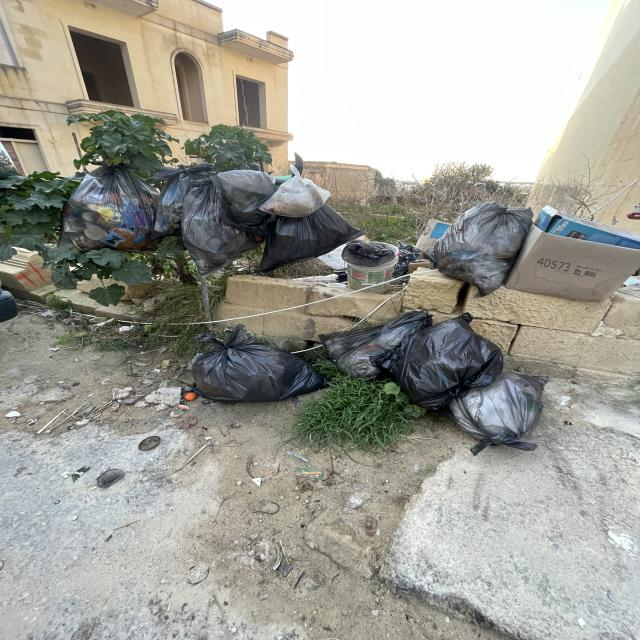black_bag: (388, 311, 506, 406), (189, 323, 324, 402), (430, 197, 532, 298), (54, 162, 163, 252), (440, 370, 554, 456), (188, 169, 276, 277), (316, 309, 435, 381), (260, 216, 353, 274), (152, 173, 194, 238)
other_waste: (507, 204, 640, 304)
white_bag: (259, 164, 333, 218)
